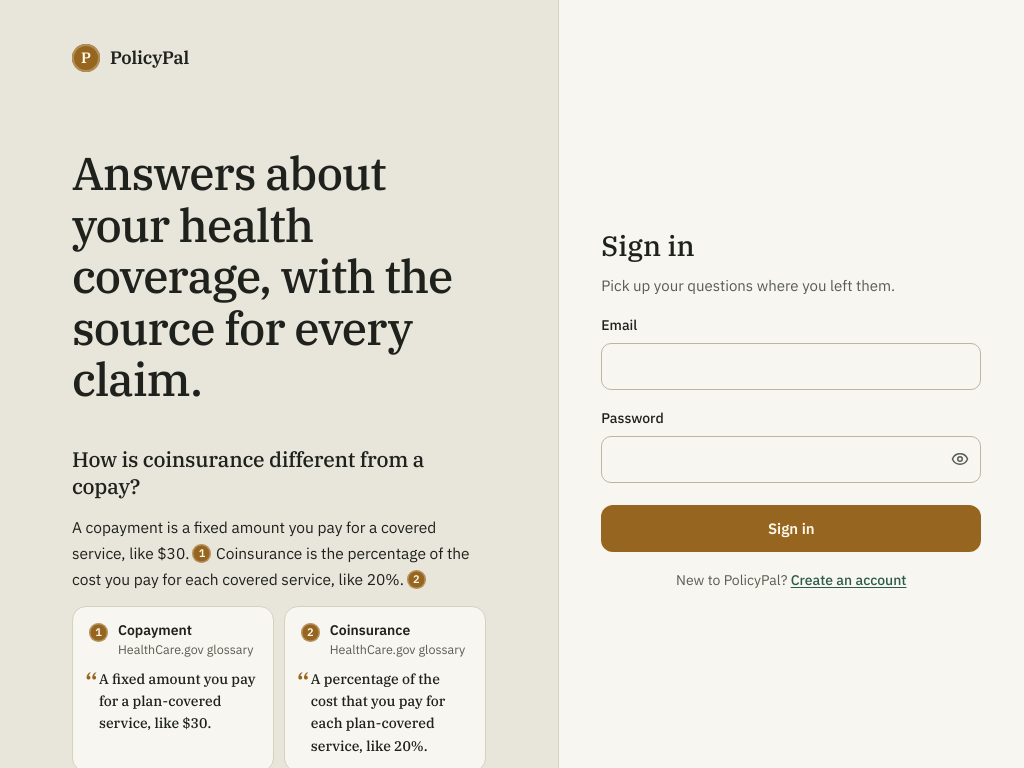
Test: AuthPage › lets the password be shown
In the password field labelled "Password": (791,459) [601,436,981,483], type "correct horse"
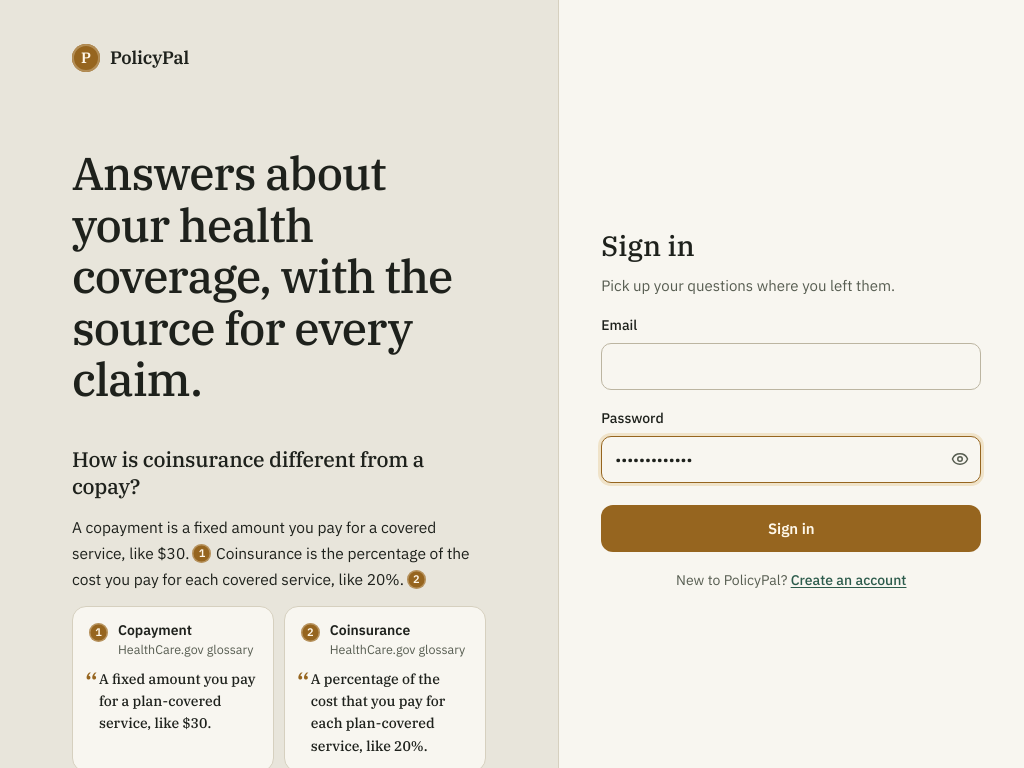
Click the button named "Show password": (960,459) [943,442,977,476]
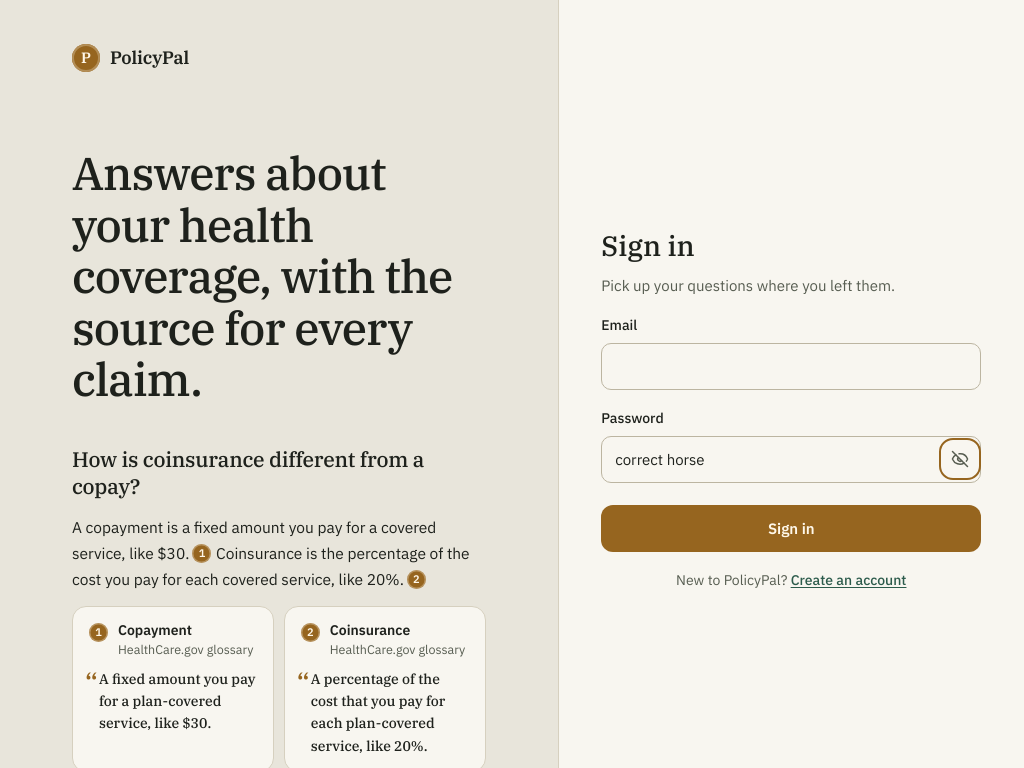
Expected: the field labelled "Password" shows its text, [601,436,981,483]
